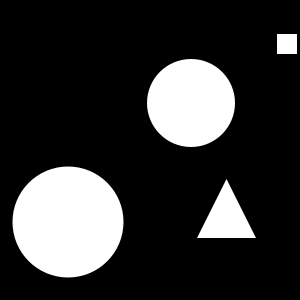circle: (277, 34, 297, 54)
rectangle: (12, 166, 123, 278), (147, 59, 235, 147)
triangle: (197, 179, 256, 238)
